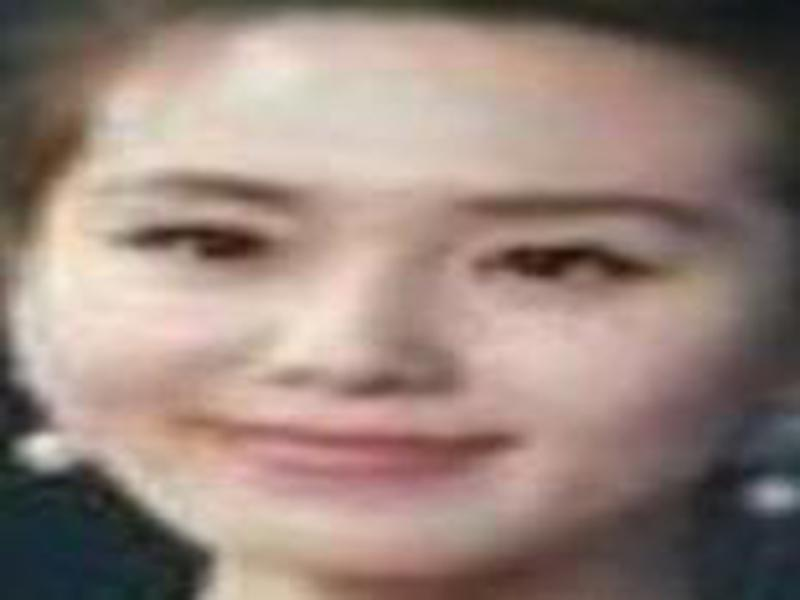without_mask: (23, 27, 768, 587)
